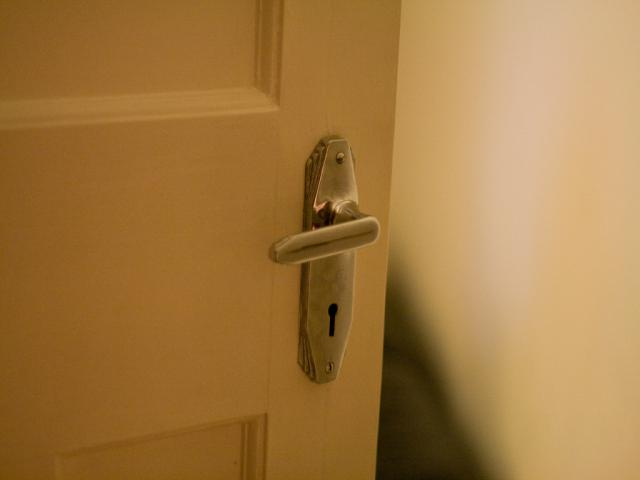Door-handle: (270, 135, 381, 384)
